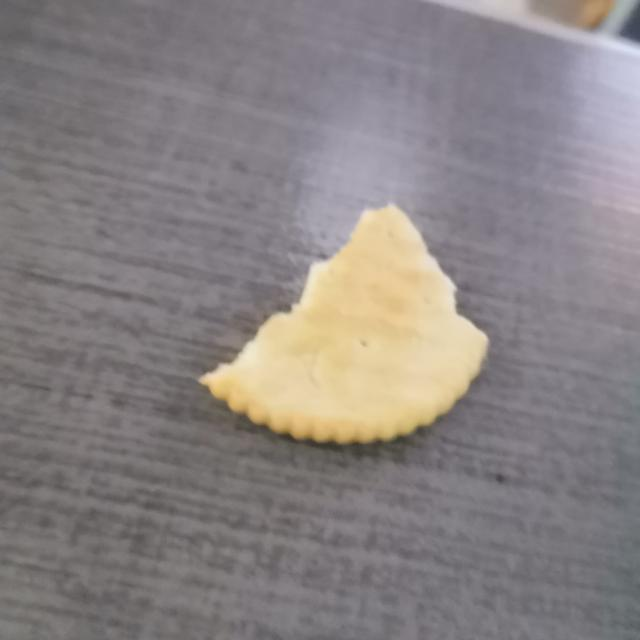Broken: (198, 201, 490, 446)
